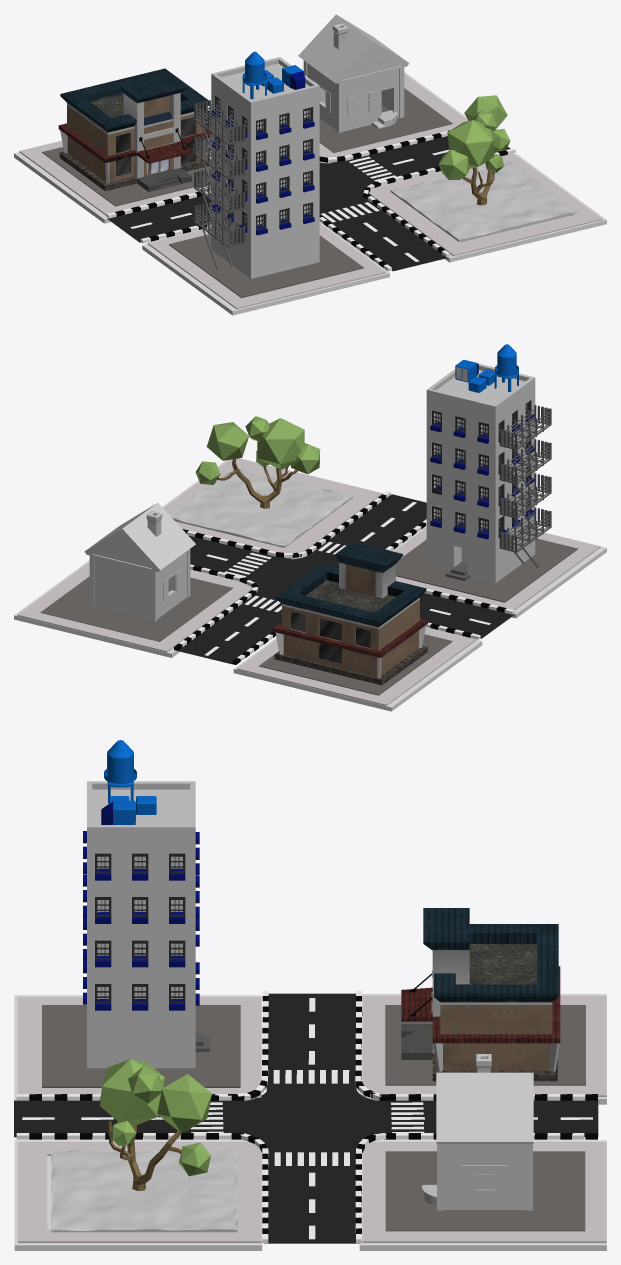
The model's file is Tjunction.fbx.
The picture shows the model from 3 angles, top to bottom: view 1: azimuth 30°, elevation 25°; view 2: azimuth 150°, elevation 25°; view 3: azimuth 270°, elevation 25°; orthographic projection. The views are drawn at different scales.
Visible parts, largest first — view 1: building_4_Cube.009, 10087_Storefront_V1_L1, 20960_Front_Gable_House_v1_NEW, 10450_Rectangular_Grass_Patch_v1_iterations-2, Cube, Tree_lp_11.001, Cube.011, Plane.328, Cube.009, Plane.331, Cube.008, Plane.332 (+7 smaller); view 2: building_4_Cube.009, 10087_Storefront_V1_L1, 20960_Front_Gable_House_v1_NEW, 10450_Rectangular_Grass_Patch_v1_iterations-2, Tree_lp_11.001, Cube.008, Cube, Cube.011, Cube.006, Cube.003, Plane.329, Plane.328 (+8 smaller); view 3: building_4_Cube.009, 10087_Storefront_V1_L1, 10450_Rectangular_Grass_Patch_v1_iterations-2, 20960_Front_Gable_House_v1_NEW, Cube.008, Plane.332, Cube, Plane.331, Cube.011, Cube.006, Tree_lp_11.001, Cube.009 (+8 smaller).
Part boxes in pixels (x1,y1,x2,y2): building_4_Cube.009: (194, 51, 319, 278); 10087_Storefront_V1_L1: (58, 68, 211, 191); 20960_Front_Gable_House_v1_NEW: (298, 14, 409, 132); 10450_Rectangular_Grass_Patch_v1_iterations-2: (390, 161, 576, 242); Cube: (368, 153, 602, 256); Tree_lp_11.001: (438, 95, 510, 205); Cube.011: (169, 234, 363, 298); Plane.328: (319, 199, 446, 271); Cube.009: (147, 224, 385, 309); Plane.331: (321, 136, 510, 190); Cube.008: (319, 88, 452, 152); Plane.332: (107, 194, 211, 242); building_4_Cube.009: (426, 344, 551, 583); 10087_Storefront_V1_L1: (272, 541, 427, 685); 20960_Front_Gable_House_v1_NEW: (84, 503, 195, 621); 10450_Rectangular_Grass_Patch_v1_iterations-2: (169, 468, 352, 547); Tree_lp_11.001: (195, 416, 320, 508); Cube.008: (40, 576, 232, 641); Cube: (163, 458, 382, 559); Cube.011: (396, 538, 577, 602); Cube.006: (17, 562, 252, 652); Cube.003: (237, 627, 475, 705); Plane.329: (178, 589, 281, 664); Plane.328: (311, 494, 426, 566); building_4_Cube.009: (83, 740, 209, 1068); 10087_Storefront_V1_L1: (401, 908, 560, 1081); 10450_Rectangular_Grass_Patch_v1_iterations-2: (51, 1150, 237, 1232); 20960_Front_Gable_House_v1_NEW: (421, 1054, 533, 1210); Cube.008: (385, 1151, 585, 1231); Plane.332: (266, 993, 356, 1110); Cube: (18, 1142, 261, 1242); Plane.331: (264, 1137, 359, 1243); Cube.011: (42, 1005, 240, 1087); Cube.006: (362, 1142, 606, 1242); Tree_lp_11.001: (99, 1059, 211, 1190); Cube.009: (17, 997, 261, 1098).
Bounding box in the file's own units: 1095 × 618 × 1092.
